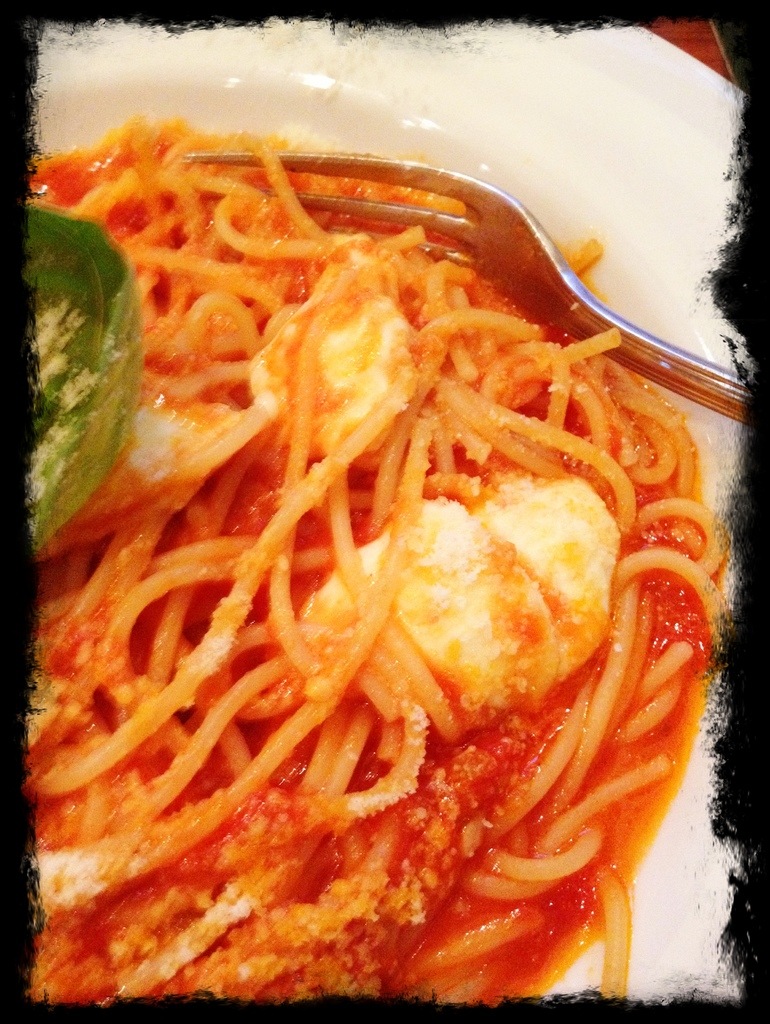pasta: (38, 159, 719, 1005)
